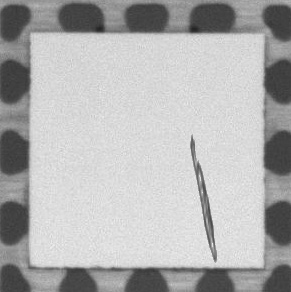DIE_INK: (186, 135, 216, 262)
